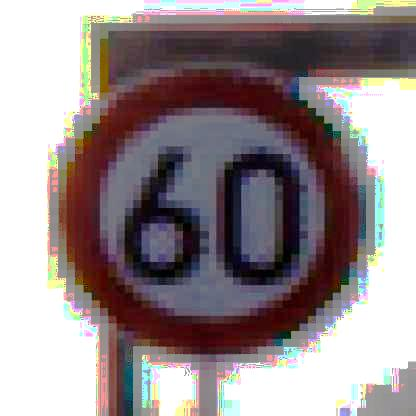Speed Limit -60-: (47, 63, 374, 361)
